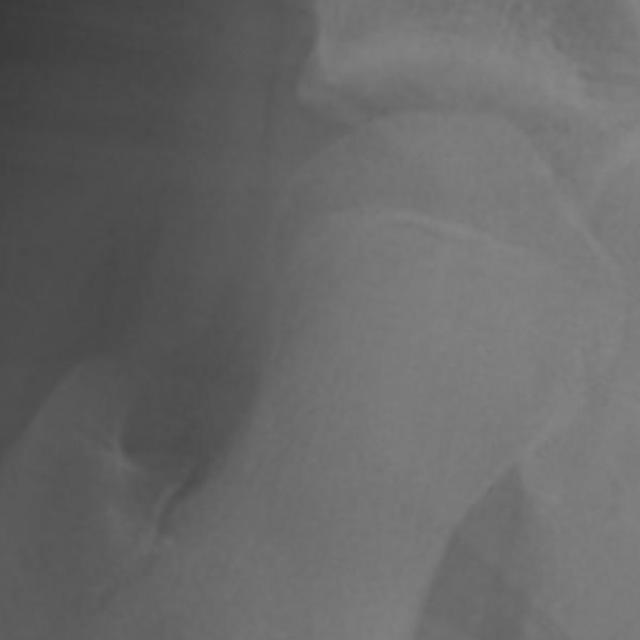Fitted_femural_head: (367, 116, 432, 367)
